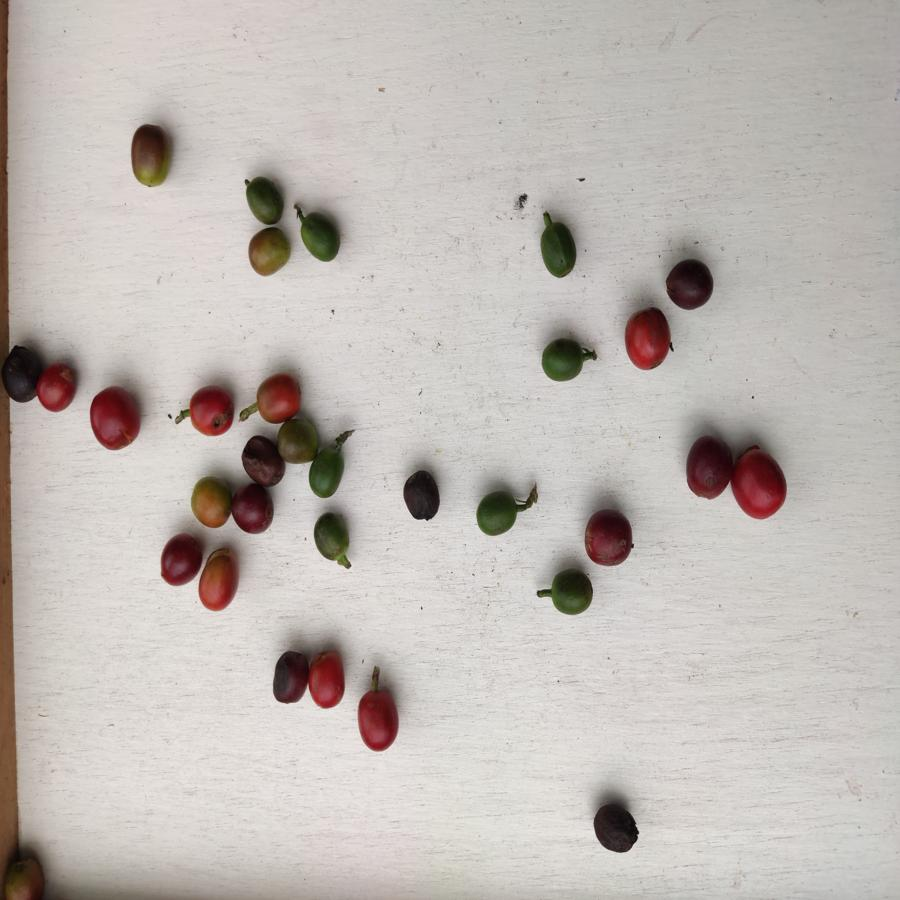Inmaduro: (532, 219, 584, 281), (297, 207, 345, 268), (539, 335, 593, 387), (473, 489, 523, 538), (312, 510, 354, 568), (546, 566, 594, 615), (243, 174, 286, 225), (310, 447, 346, 499)
Maduro: (733, 443, 792, 525), (89, 385, 142, 454), (623, 309, 676, 374), (358, 687, 401, 757), (200, 546, 239, 620), (309, 648, 351, 716), (247, 371, 306, 419), (191, 384, 239, 439), (39, 362, 80, 413)
Pinton: (126, 124, 174, 191), (246, 228, 294, 279), (186, 478, 233, 526), (3, 856, 51, 900), (277, 421, 320, 463)
Sobremaduro: (682, 431, 733, 504), (583, 506, 638, 568), (591, 801, 643, 858), (666, 256, 715, 309), (240, 435, 284, 491), (158, 532, 200, 589), (269, 647, 308, 704), (234, 485, 274, 540), (401, 469, 441, 524), (4, 344, 39, 404)
